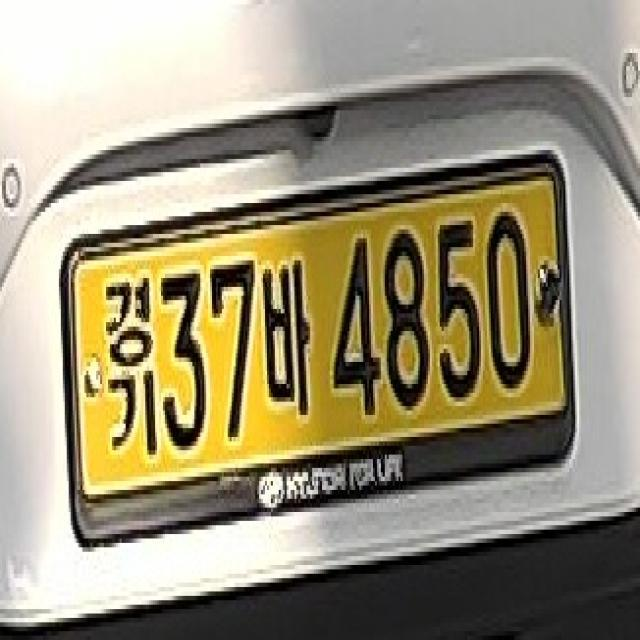plat: (61, 148, 574, 537)
